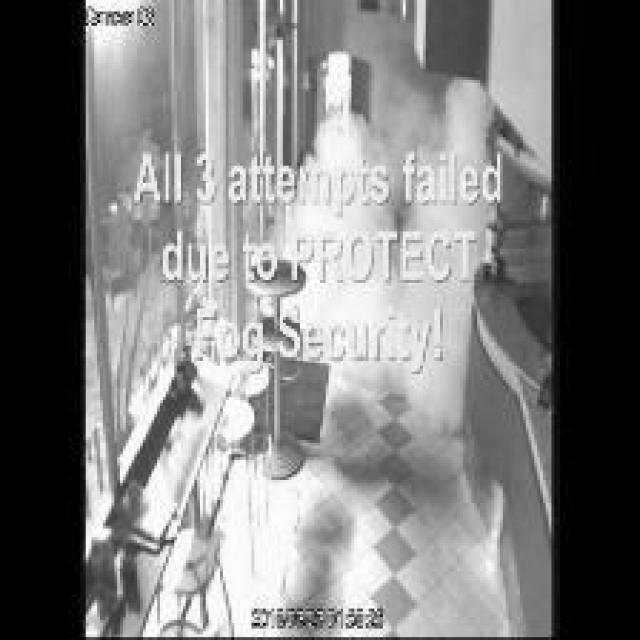fire: (398, 74, 498, 432), (277, 107, 392, 399)
